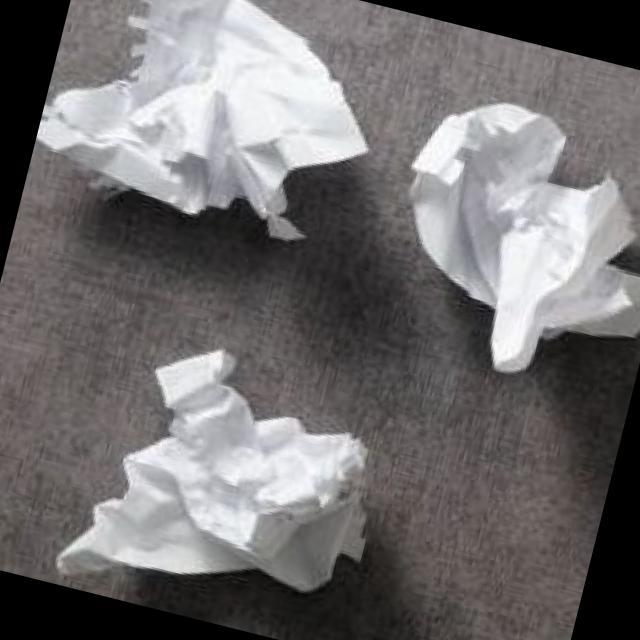electronic: (50, 321, 402, 640), (25, 0, 402, 256), (365, 80, 640, 404)
